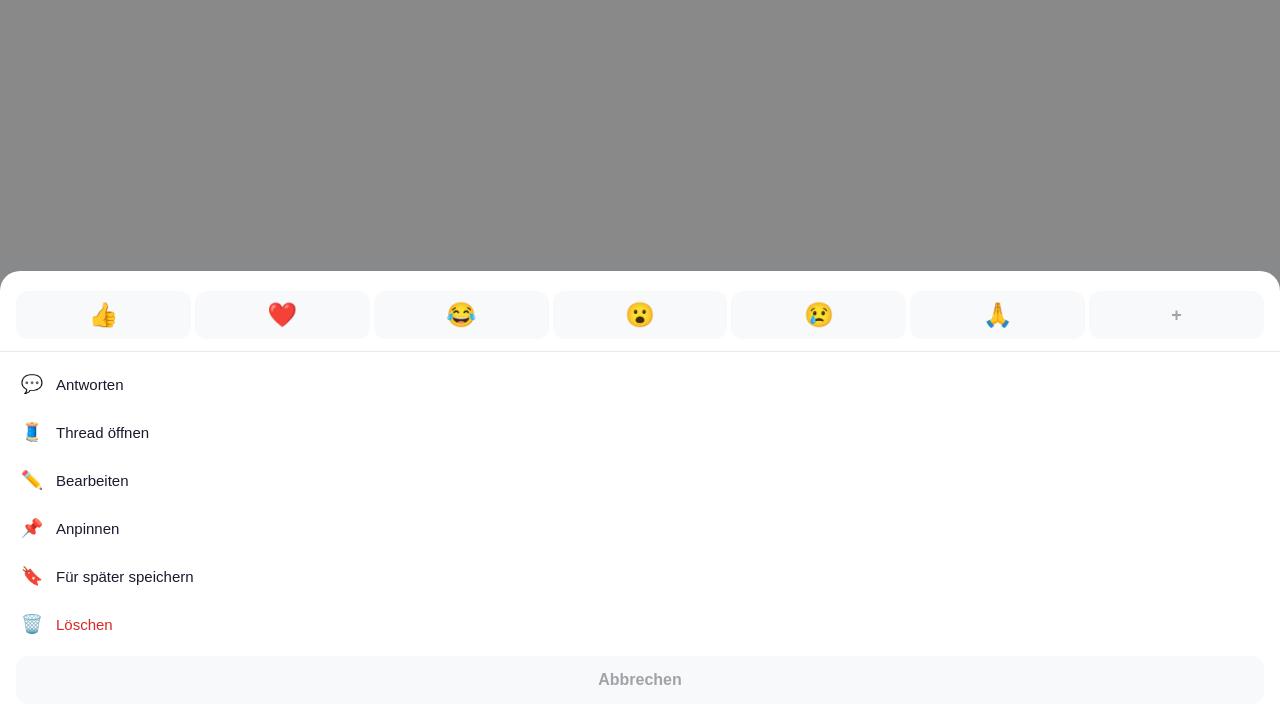
Test: MobileMessageMenu — delete confirmation › disables confirm button while deleteBusy
The image size is (1280, 720).
Click the button "🗑️ Löschen": (84, 624) x1=8 y1=600 x2=1272 y2=648
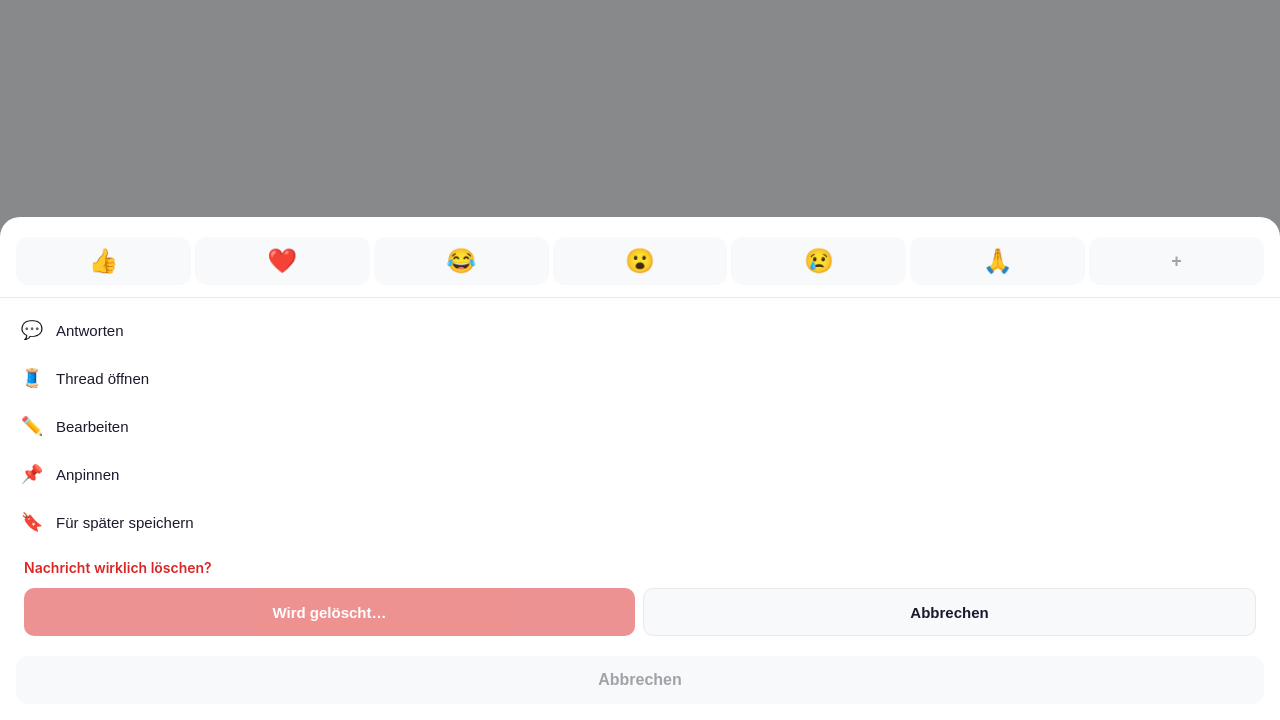
Expected: the button "Wird gelöscht…" is disabled, x1=24 y1=588 x2=635 y2=636
